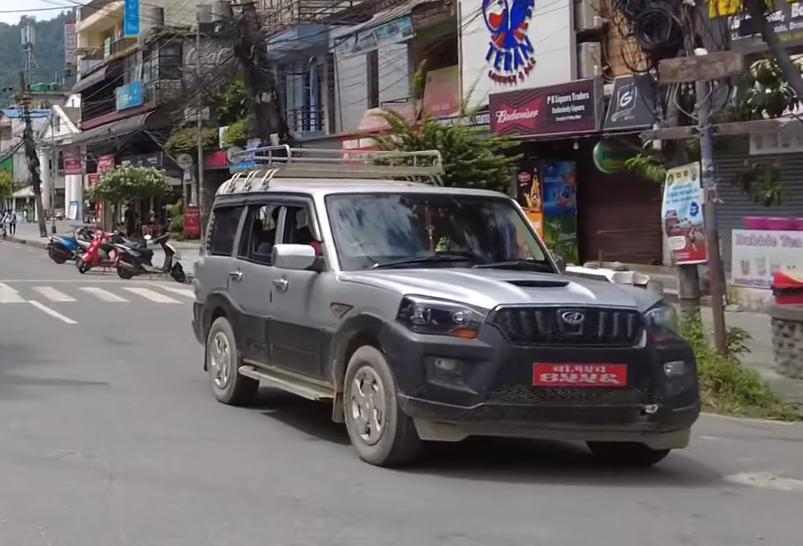SUV: (182, 136, 710, 474)
scooter: (107, 232, 190, 285)
